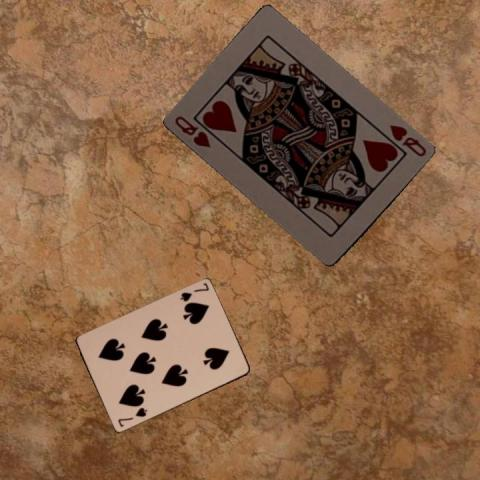7s: (115, 404, 148, 428), (177, 280, 210, 303)
Qh: (387, 121, 428, 159), (172, 113, 213, 149)
